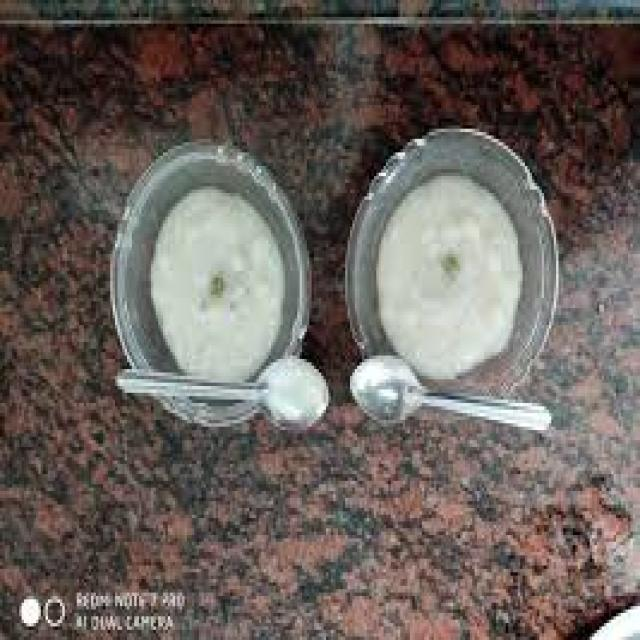paal kolukattai: (364, 163, 534, 376), (135, 174, 294, 393)
